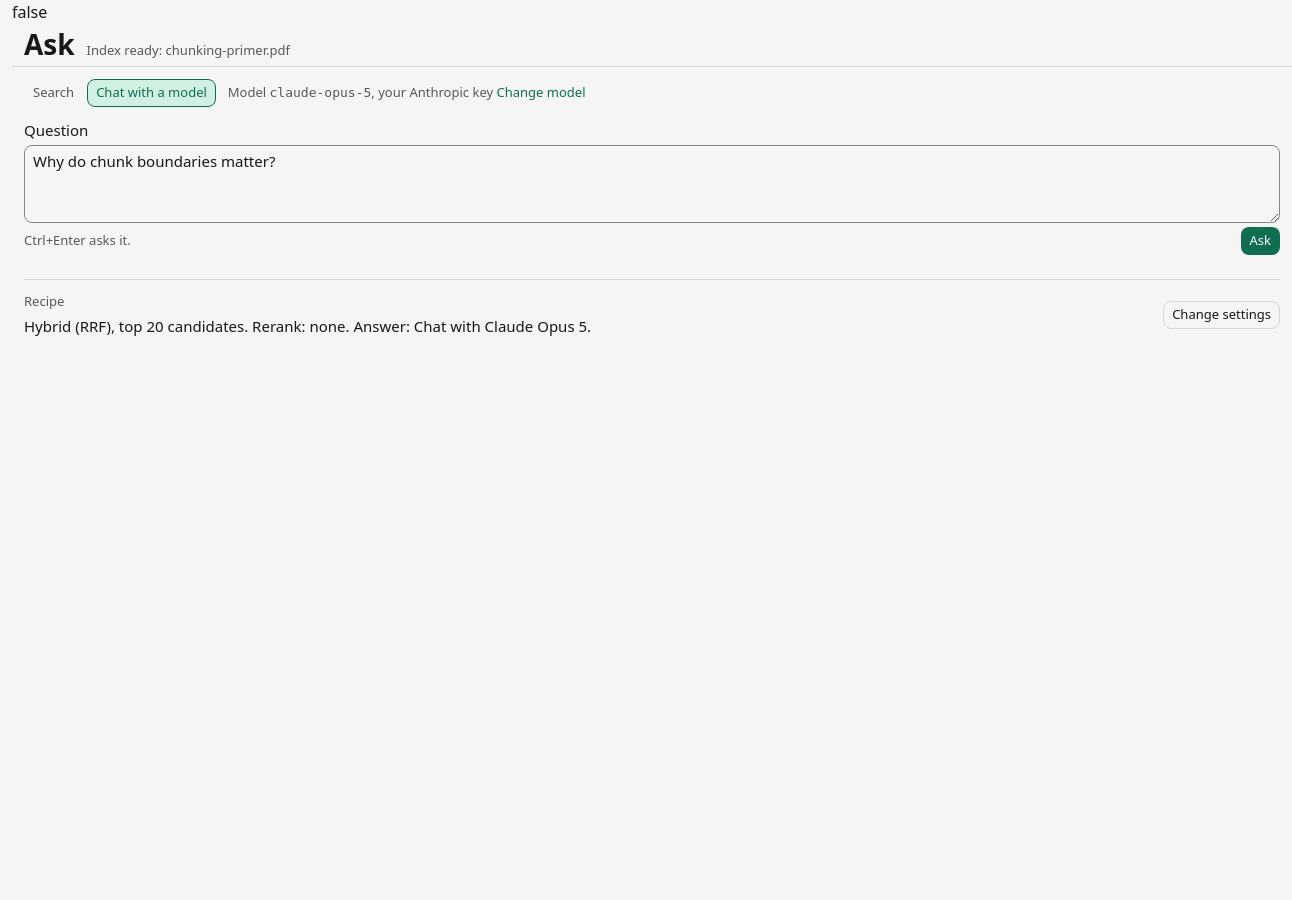
Test: Answer with, above the question › on Chat, names the model and the provider's key, and Change model opens the settings
Expected: the element with test id "answer-mode-line" shows "claude-opus-5", [270,85,371,100]
Expected: the element with test id "answer-mode-line" shows "your Anthropic key", [371,83,493,101]
Click the button "Change model": (541, 93) [496,83,586,102]
(page scrolled)
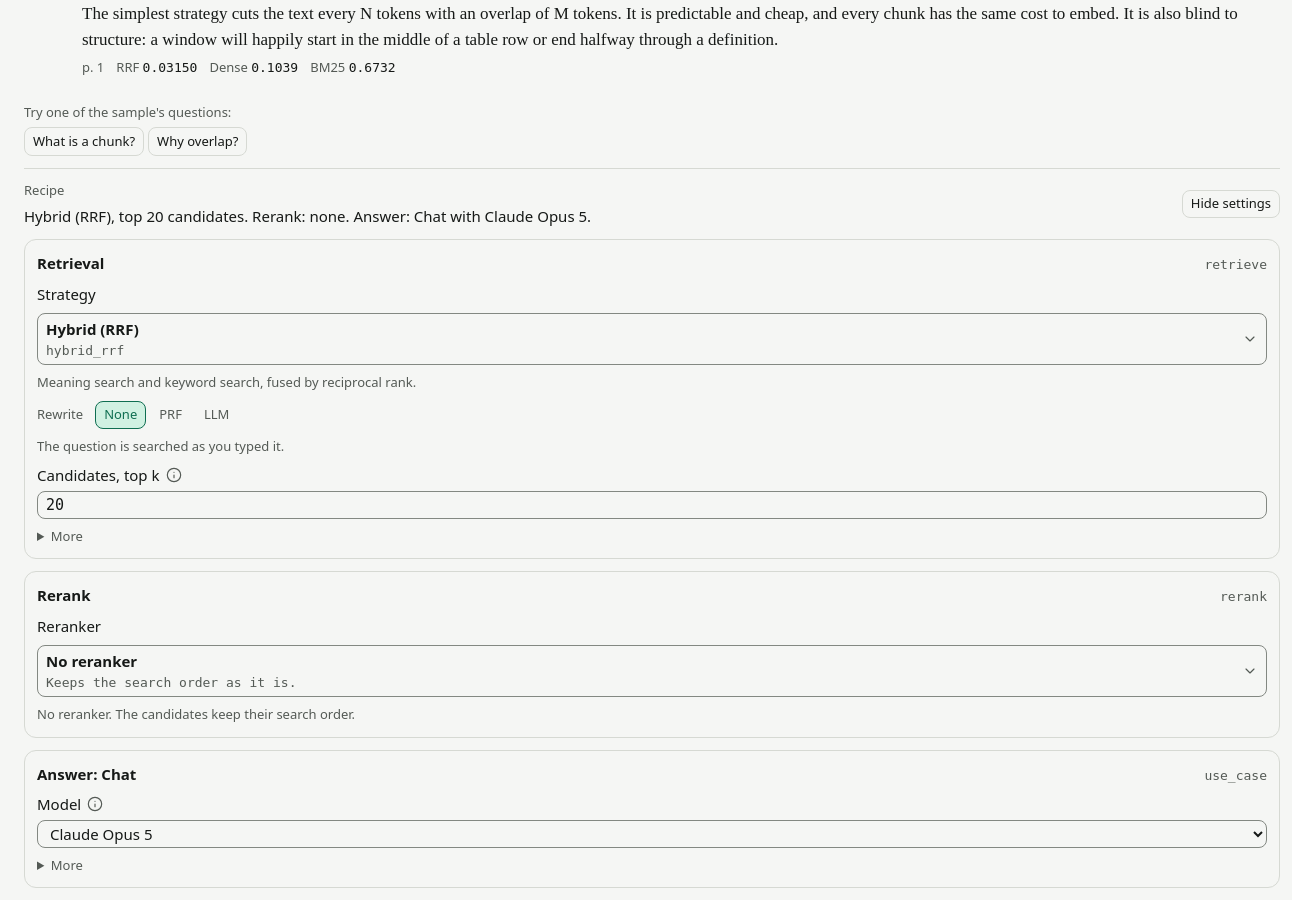
Now the element with test id "ask-settings" is shown
